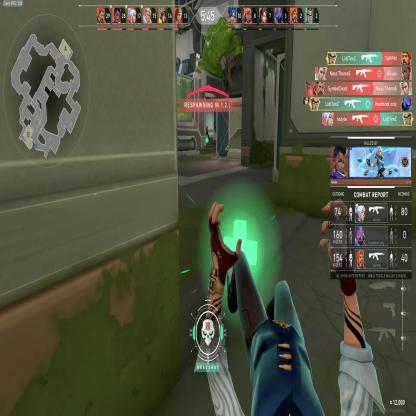enemy: (206, 123, 210, 142)
